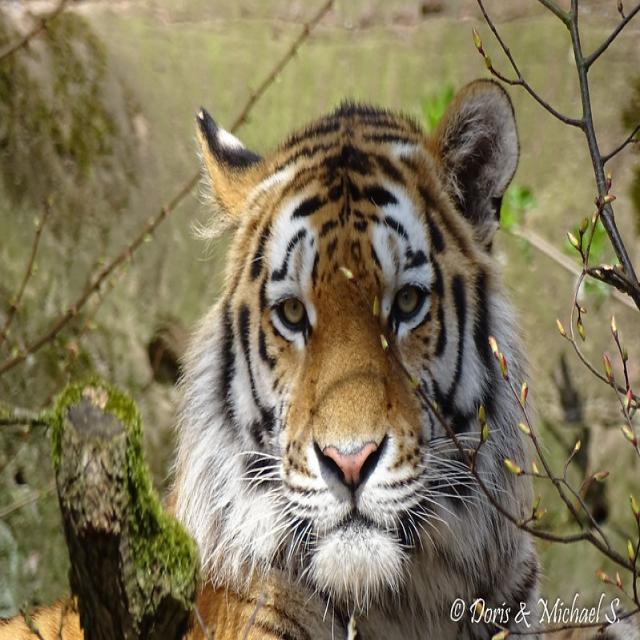Tiger: (173, 76, 521, 634)
